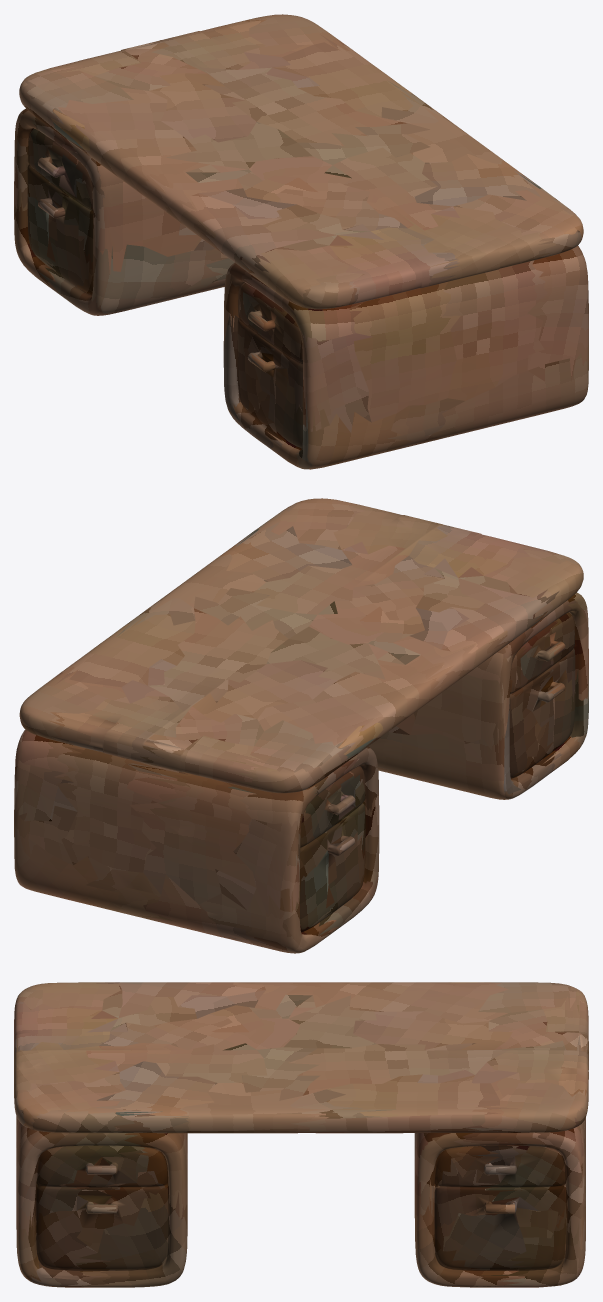
File: JP_사물_s2_office_desk.glb
3 renders of one model, top to bottom at view 1: azimuth 30°, elevation 25°; view 2: azimuth 150°, elevation 25°; view 3: azimuth 270°, elevation 25°, orthographic. The views are drawn at different scales.
Parts seen in each view (by area): view 1: tripo_node_be36bdf1-5524-48e0-810d-64f323620fd9; view 2: tripo_node_be36bdf1-5524-48e0-810d-64f323620fd9; view 3: tripo_node_be36bdf1-5524-48e0-810d-64f323620fd9.
Part boxes in pixels (<box>): tripo_node_be36bdf1-5524-48e0-810d-64f323620fd9: <box>14,14,588,469</box>; tripo_node_be36bdf1-5524-48e0-810d-64f323620fd9: <box>14,498,588,953</box>; tripo_node_be36bdf1-5524-48e0-810d-64f323620fd9: <box>14,982,588,1287</box>.
Size of the model in its own units: 0.5755 by 0.3438 by 1.
1 material, 1 textured.
